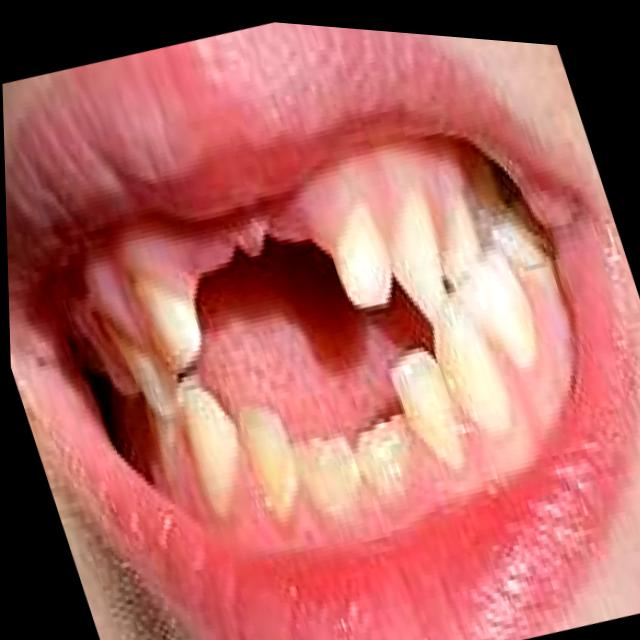hypodontia: (72, 138, 527, 374)
